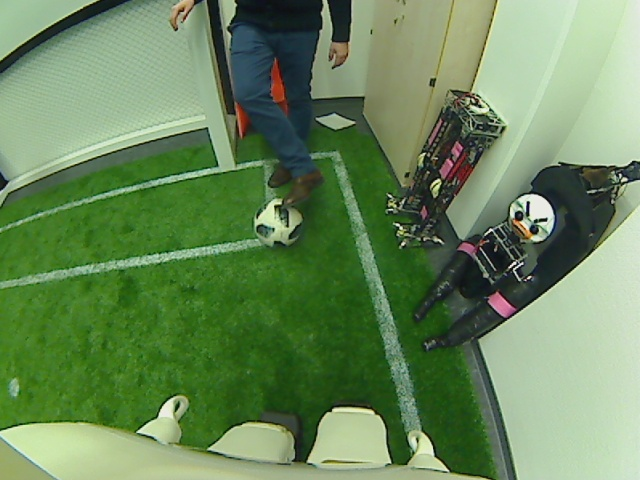ball: (253, 200, 304, 248)
